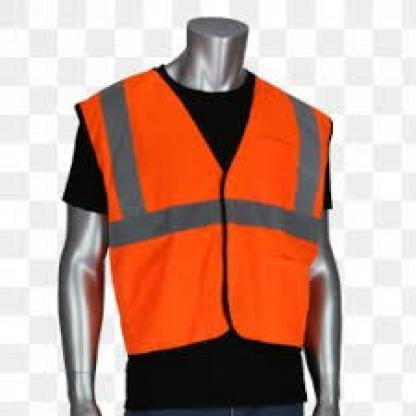vest: (94, 69, 314, 347)
